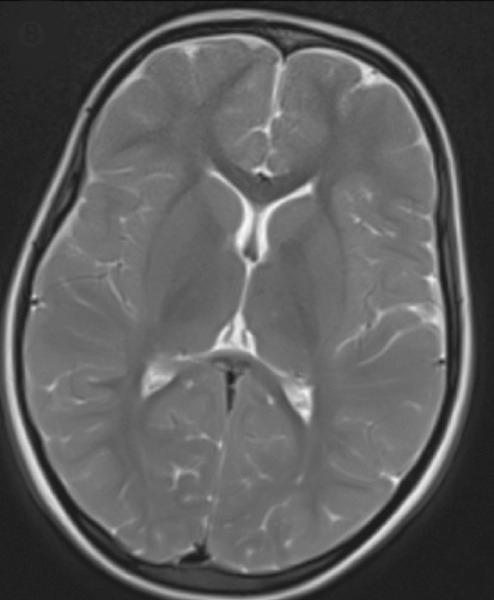Normal_Brain: (4, 1, 494, 600)
